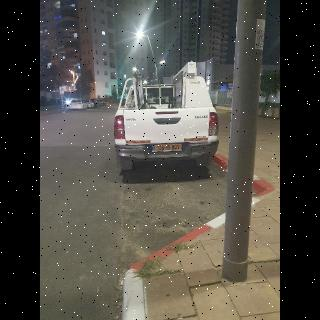LicensePlate: (155, 144, 181, 150)
